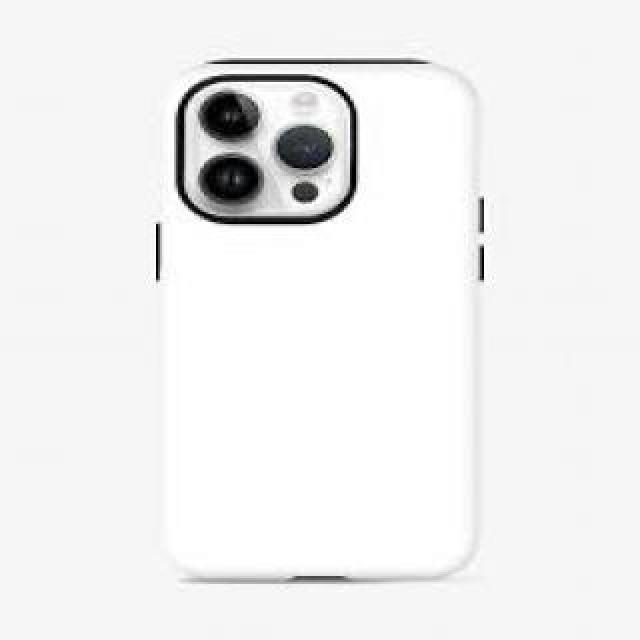smart phone: (140, 13, 520, 615)
